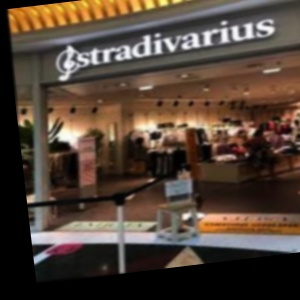stradivarius: (40, 28, 300, 87)
